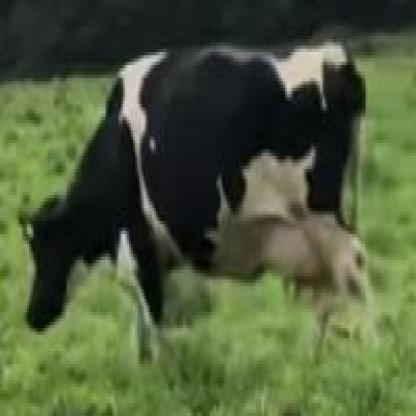cow: (26, 47, 367, 366)
